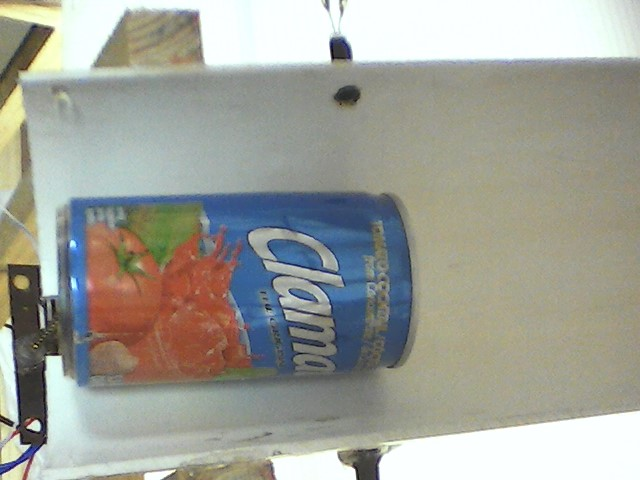lata: (53, 189, 425, 391)
